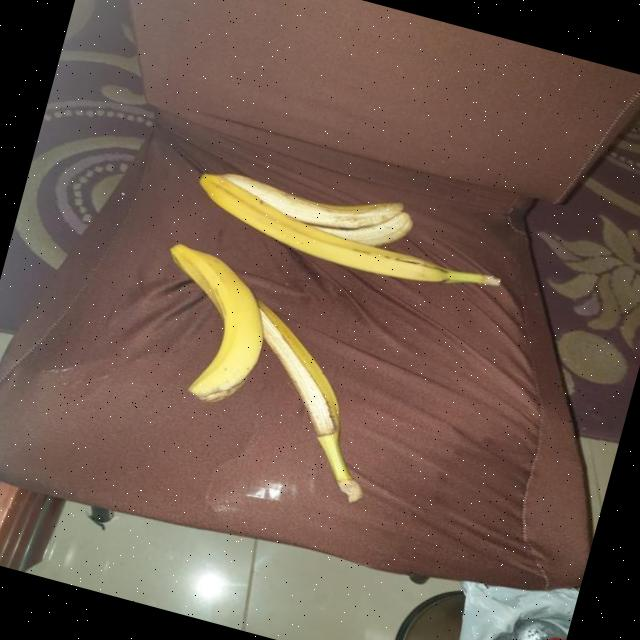banana-peel: (116, 238, 414, 506), (185, 148, 514, 308)
